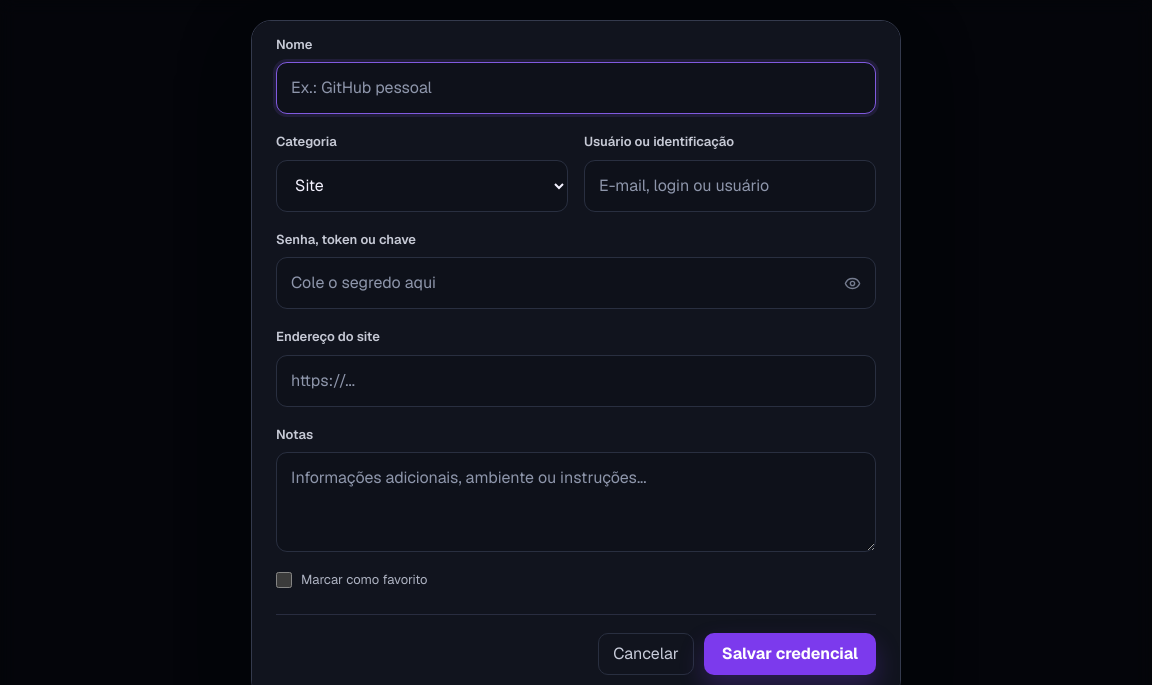
Test: CredentialModal › validates required fields before saving
The image size is (1152, 685).
(page scrolled)
Step 1. Click the button "Salvar credencial" → (790, 654), box [704, 632, 876, 674]
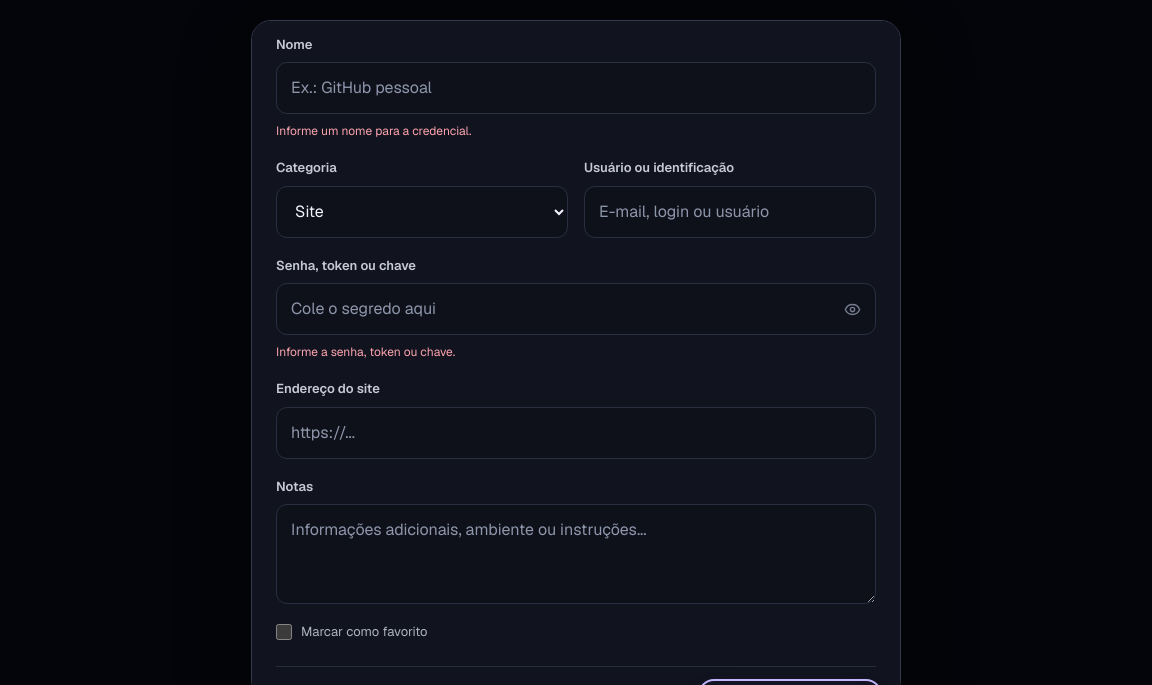
Expected: the number of messages is 2, [276, 123, 471, 139]; [276, 344, 455, 360]
